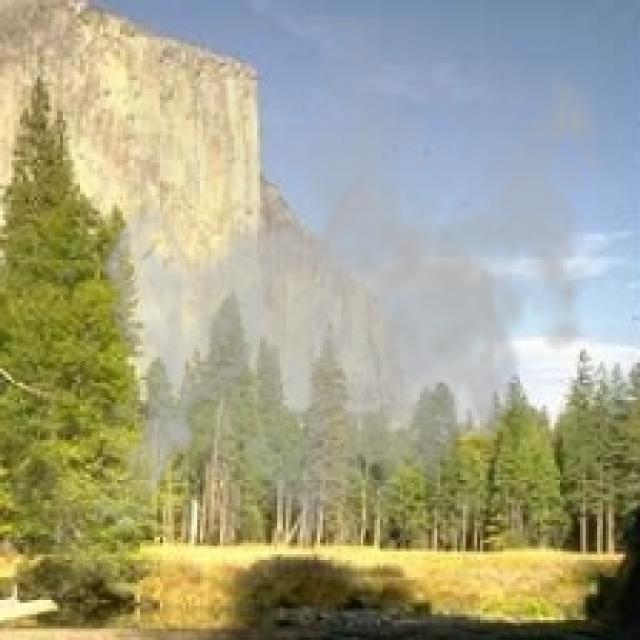smoke: (94, 17, 617, 560)
